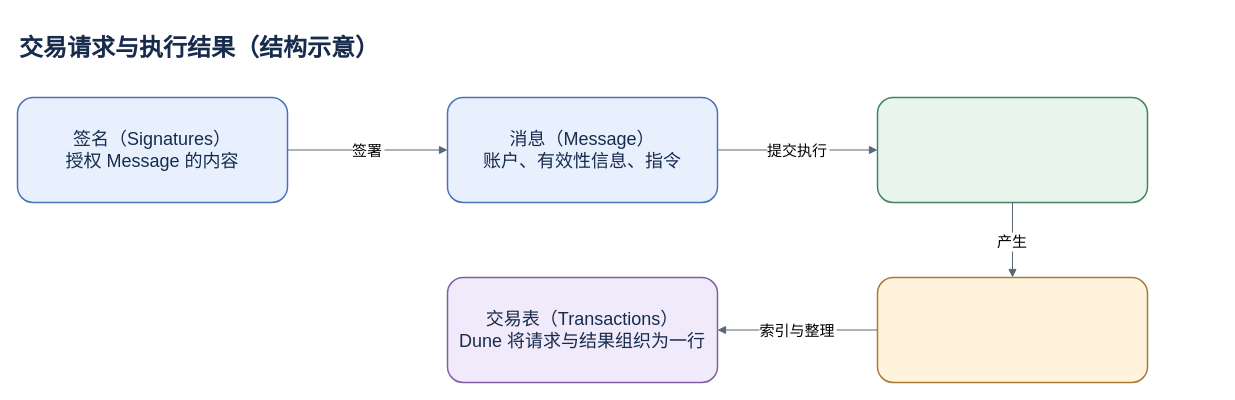
This 1235x400 diagram has some shape labels left out. The box of each missing label's shape, as (x1, y1, x2, y2) in pixels:
执行元数据（Metadata） 错误、费用、日志、前后余额: (876, 276, 1148, 383)
运行时（Runtime） 验证权限并顺序执行指令: (876, 96, 1148, 203)
